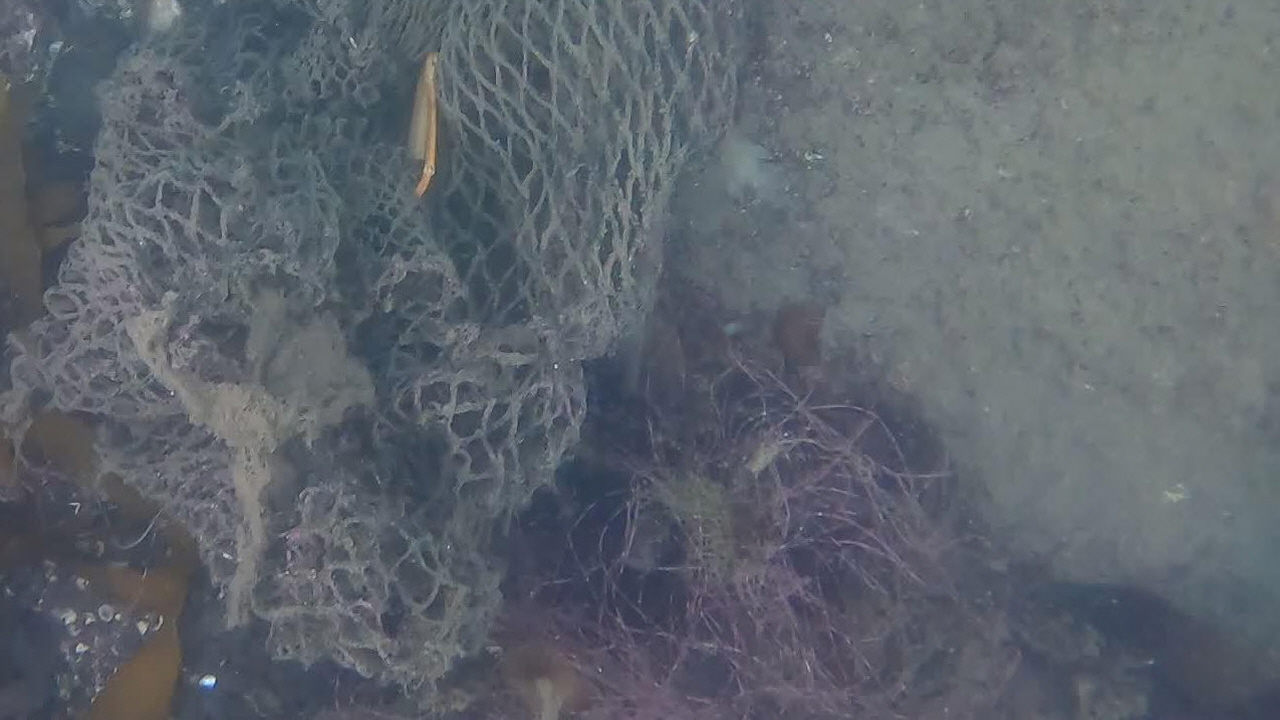fish net: (11, 0, 753, 684)
